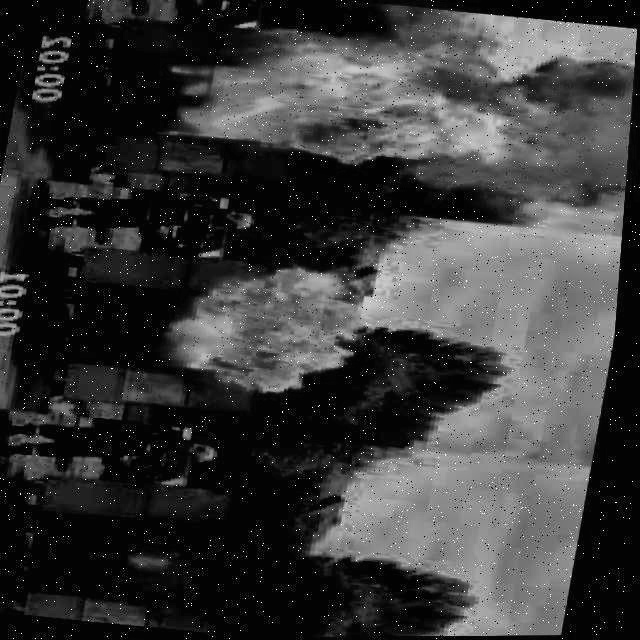Fire: (165, 0, 640, 220), (150, 248, 376, 401)
